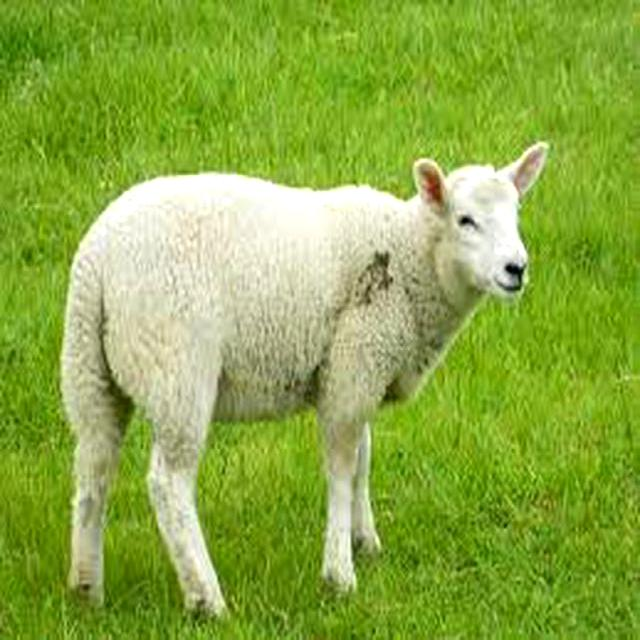sheep: (63, 142, 548, 628)
